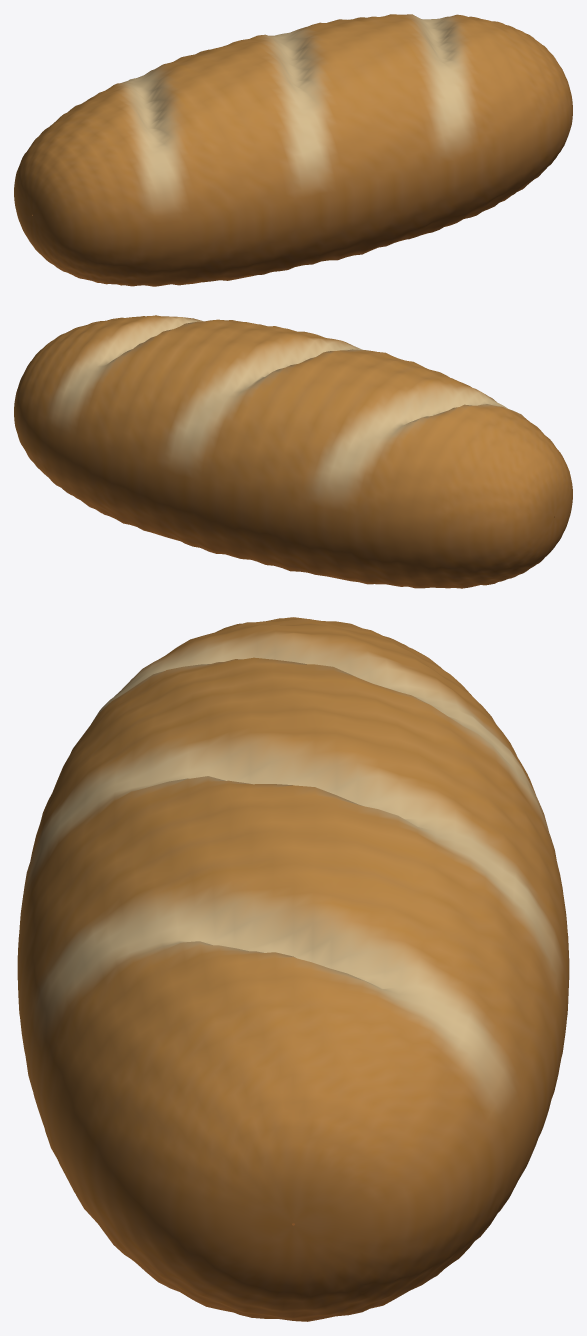
File: pao_rustico.glb
3 views of the same model, one above another, from view 1: azimuth 30°, elevation 25°; view 2: azimuth 150°, elevation 25°; view 3: azimuth 270°, elevation 25° (orthographic). The views are drawn at different scales.
Parts seen in each view (by area): view 1: Pao_rustico; view 2: Pao_rustico; view 3: Pao_rustico.
Part boxes in pixels (x1,y1,x2,y2): Pao_rustico: (14,14,572,286); Pao_rustico: (14,315,572,588); Pao_rustico: (17,617,569,1321).
Bounding box in the file's own units: 0.38 × 0.1205 × 0.174.
